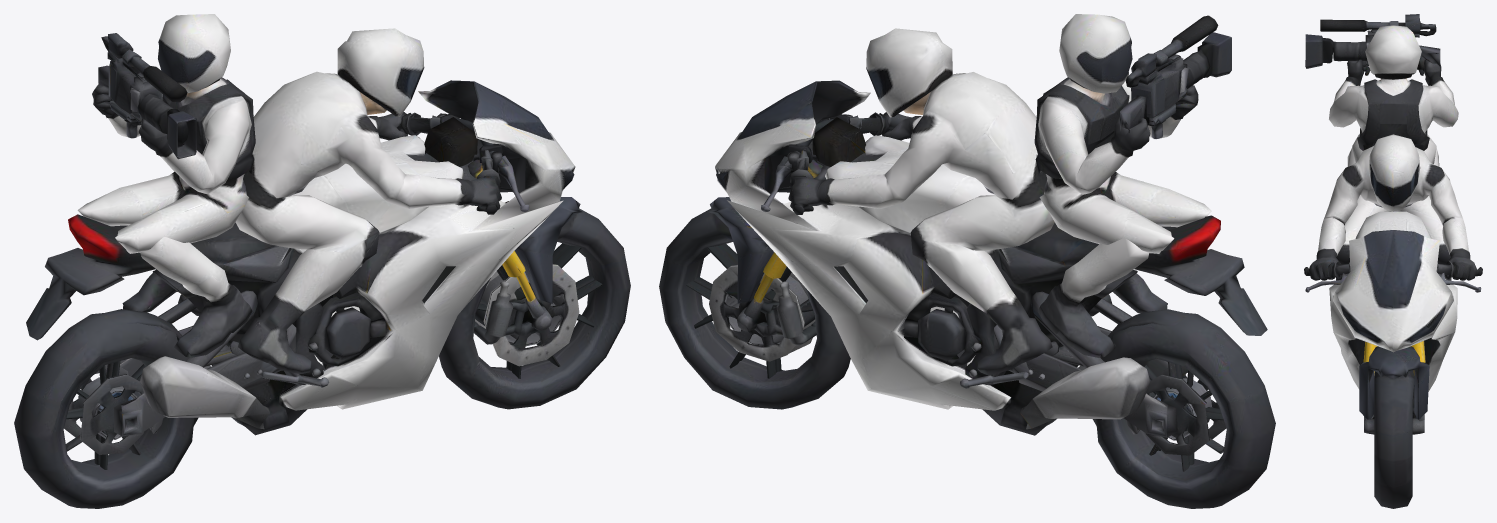
Rendered from moto.glb.
The picture shows the model from 3 angles, left to right: view 1: azimuth 30°, elevation 25°; view 2: azimuth 150°, elevation 25°; view 3: azimuth 270°, elevation 25°; orthographic projection. The views are drawn at different scales.
Parts seen in each view (by area): view 1: geometry_0; view 2: geometry_0; view 3: geometry_0.
Part boxes in pixels (x1,y1,x2,y2): geometry_0: (14,14,630,508); geometry_0: (659,14,1275,508); geometry_0: (1304,14,1482,508).
Bounding box in the file's own units: 0.9575 × 0.7124 × 0.3276.
1 material, 1 textured.
